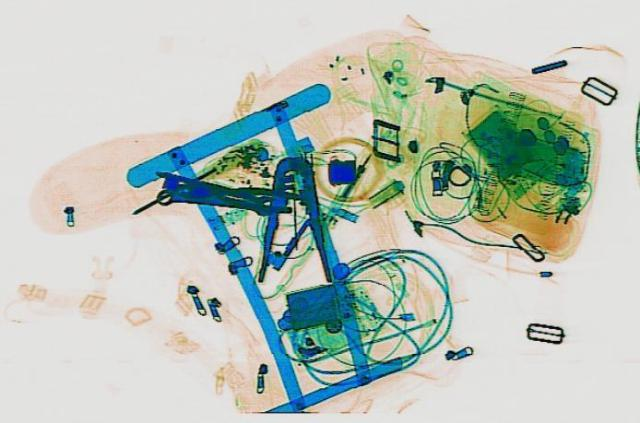Pliers: (255, 155, 331, 282)
